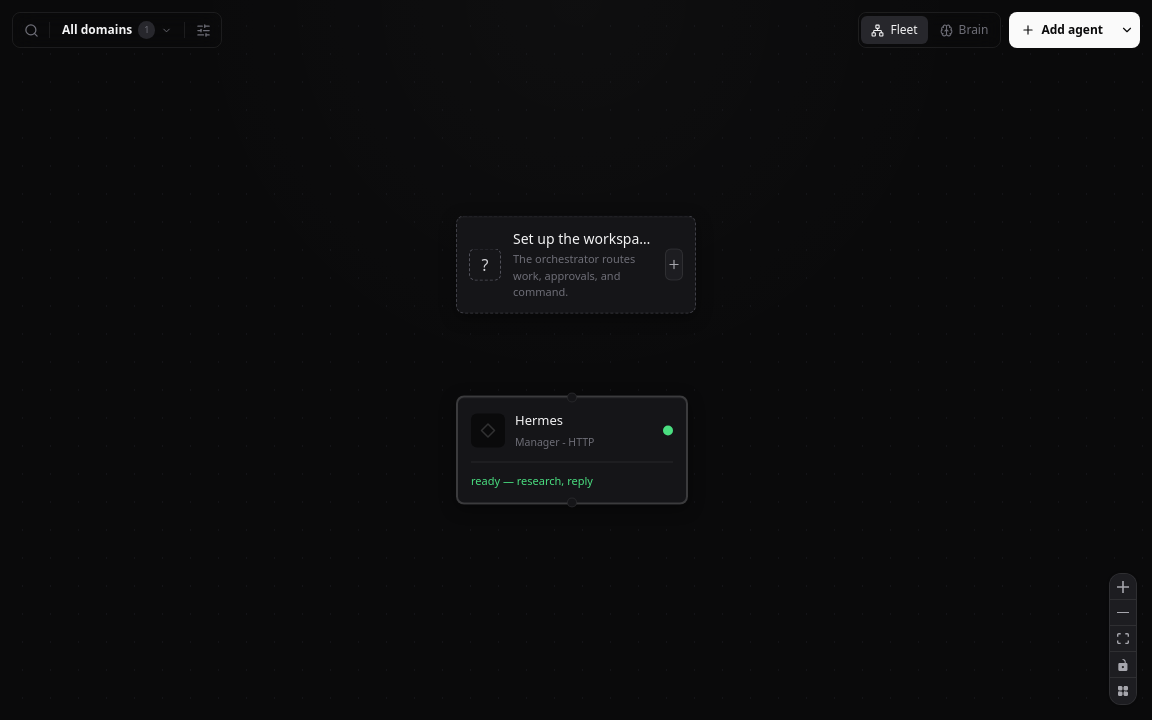
Scenario: <AgentsPage /> › defaults to the hierarchy canvas and keeps the table fallback
Check: the text "Hermes" is shown, box [515,410,563,428]
Check: the button "All domains 1" is shown, box [54,16,180,44]
Click the button named "View options": {"x": 204, "y": 30} [190,16,218,44]
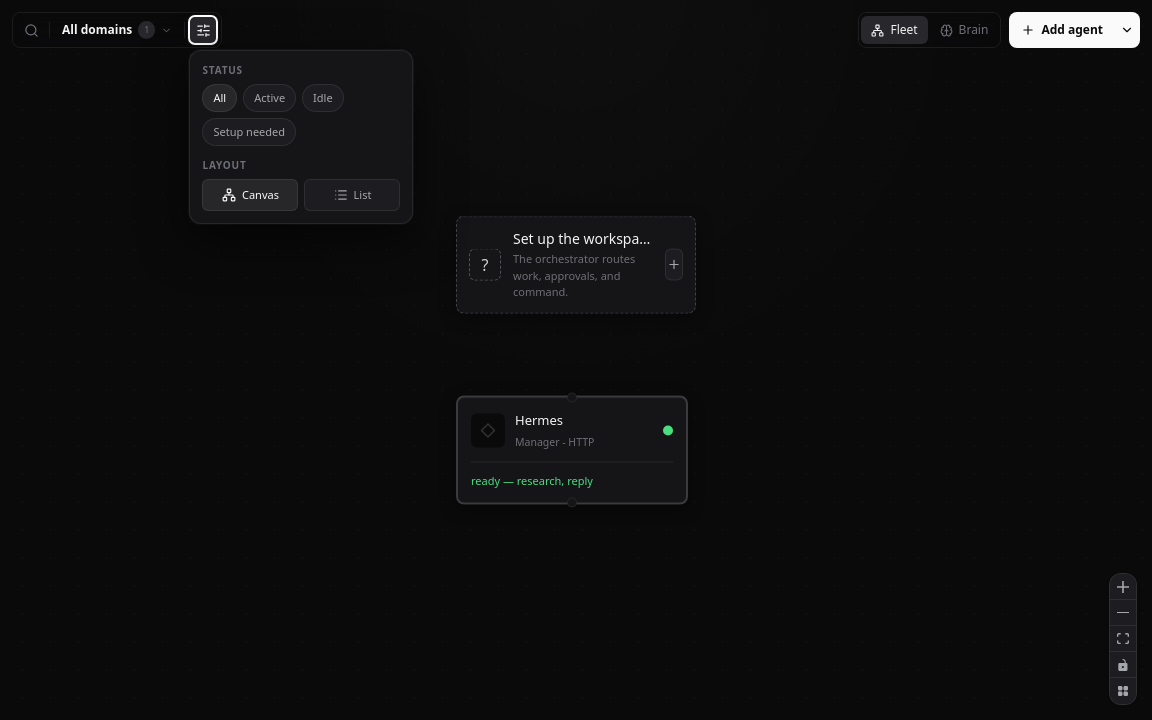
Click the button "List": {"x": 352, "y": 195} [304,179,400,211]
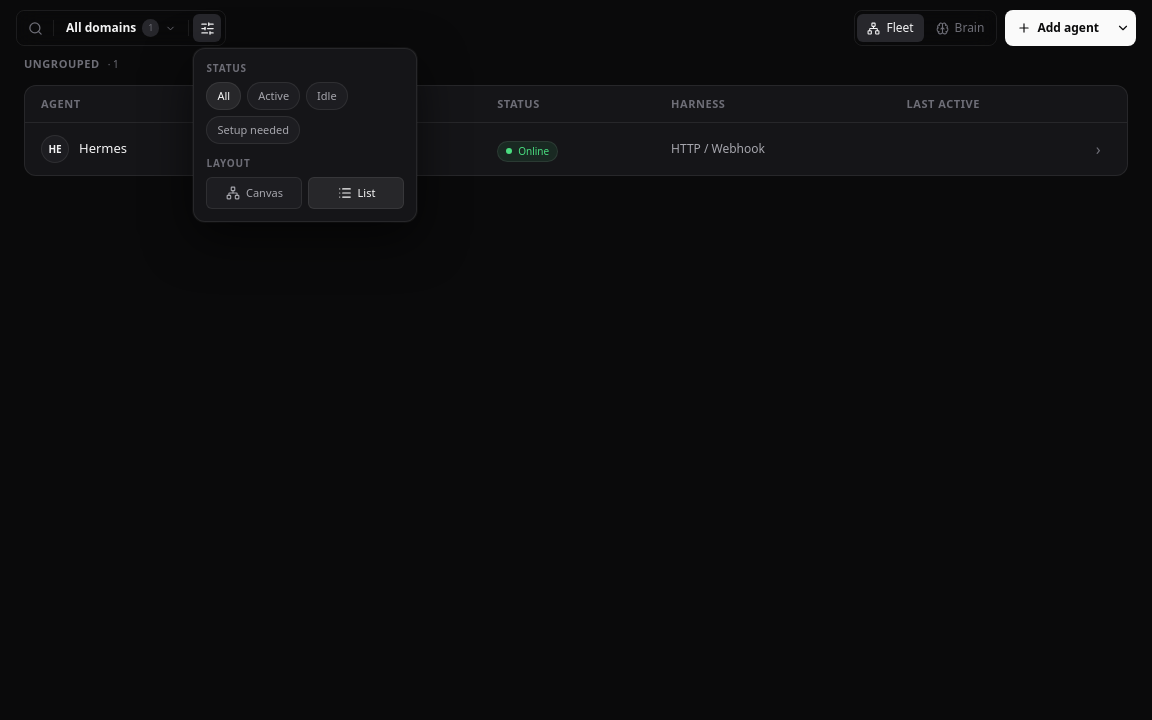
Check: the text "HTTP / Webhook" is shown, box [655,122,890,175]
